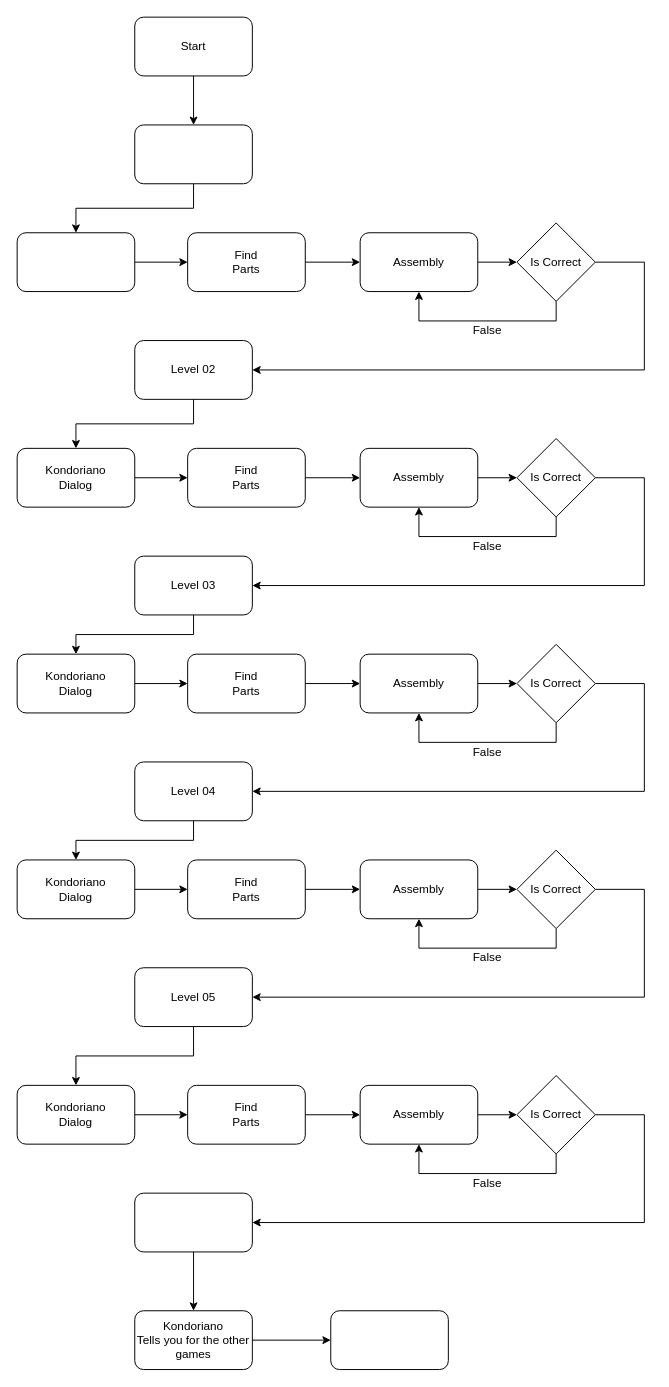
The diagram is 669 pixels wide and 1387 high, and some of its shapes have lost their labels. The centre of each missing label's shape, as x and y in pixels:
End: the point at 389,1340
Go to exit door: the point at 193,1222
Kondoriano Introducing: the point at 75,262
Level 01: the point at 193,154
